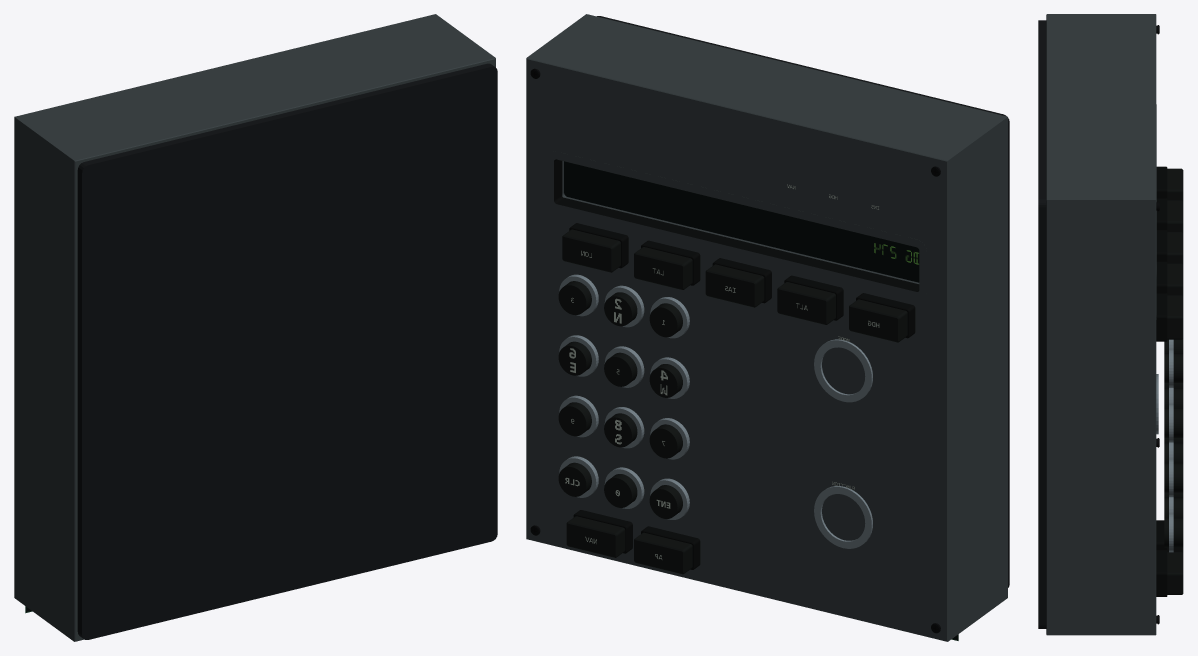
Rendered from MFDStudio.obj.
3 renders of one model, left to right at view 1: azimuth 30°, elevation 25°; view 2: azimuth 150°, elevation 25°; view 3: azimuth 270°, elevation 25°, orthographic. The views are drawn at different scales.
Parts seen in each view (by area): view 1: MFDStudioBody; view 2: MFDStudioBody, MFDStudioKeys1, MFDStudioScreen, MFDStudioKeys0, MFDStudioKeys2; view 3: MFDStudioBody, MFDStudioKeys1, MFDStudioKeys2, MFDStudioKeys0.
Part boxes in pixels (box(x1,y1,x2,y2)): MFDStudioBody: box(14, 14, 497, 641); MFDStudioBody: box(526, 14, 1009, 641); MFDStudioKeys1: box(558, 240, 915, 519); MFDStudioScreen: box(564, 161, 958, 640); MFDStudioKeys0: box(558, 274, 689, 459); MFDStudioKeys2: box(562, 223, 700, 574); MFDStudioBody: box(1038, 14, 1158, 635); MFDStudioKeys1: box(1156, 166, 1183, 552); MFDStudioKeys2: box(1156, 293, 1183, 596); MFDStudioKeys0: box(1164, 339, 1183, 463).
Bounding box in the file's own units: 0.28 × 0.31 × 0.0922.
11 materials, 1 textured.
